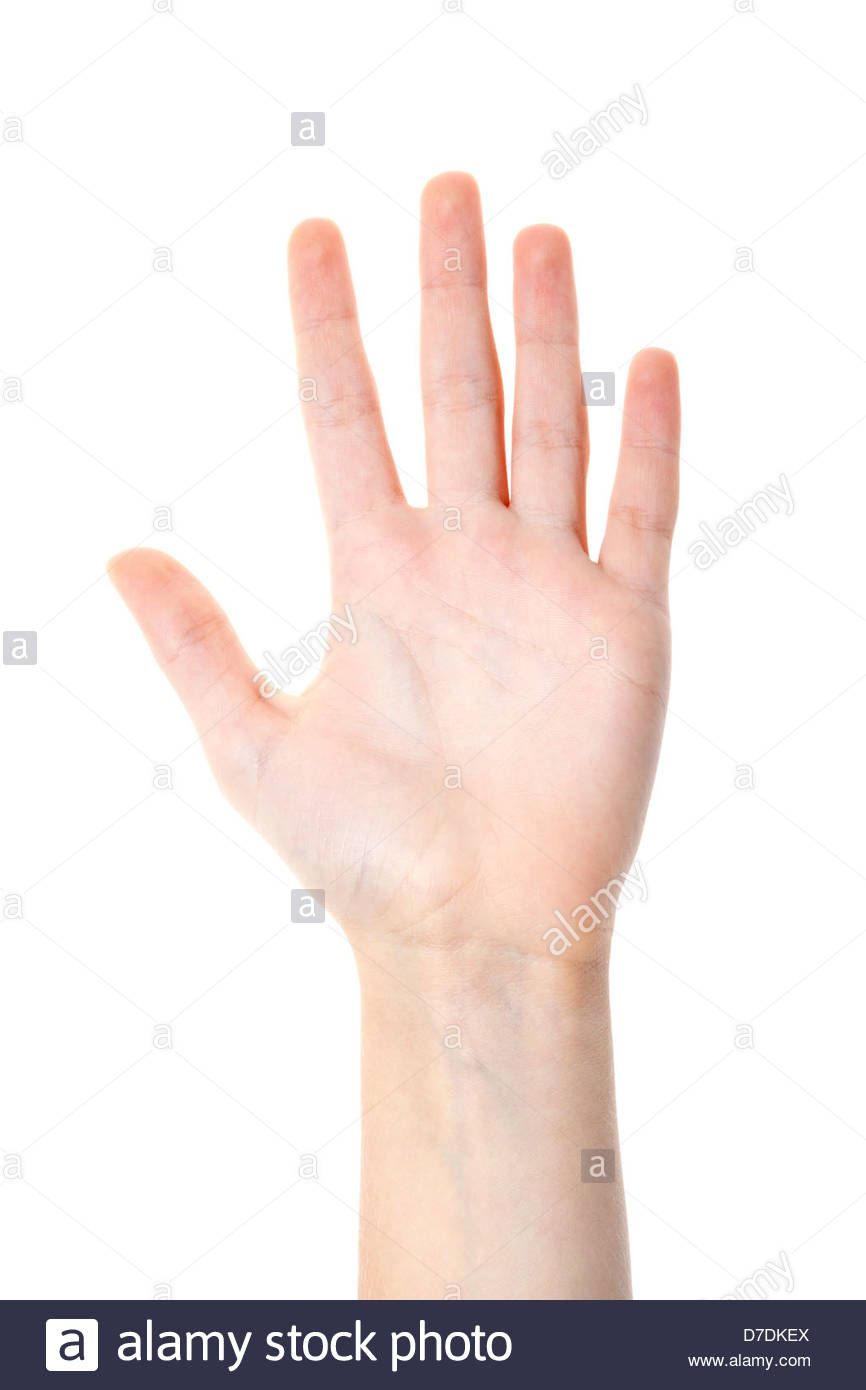open_hand: (105, 160, 772, 988)
